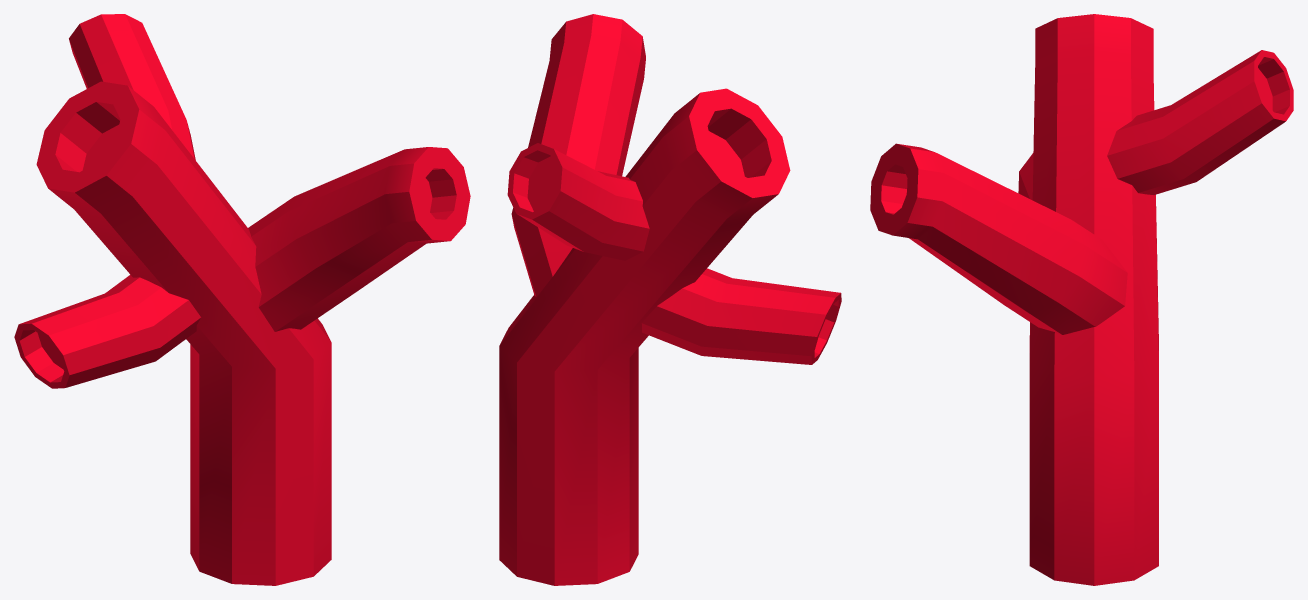
File: Coral red.fbx
The picture shows the model from 3 angles, left to right: view 1: azimuth 30°, elevation 25°; view 2: azimuth 150°, elevation 25°; view 3: azimuth 270°, elevation 25°; orthographic projection. The views are drawn at different scales.
Parts seen in each view (by area): view 1: Coral_red; view 2: Coral_red; view 3: Coral_red.
Part boxes in pixels (bbox=[...]): Coral_red: bbox=[14, 14, 470, 585]; Coral_red: bbox=[499, 14, 841, 585]; Coral_red: bbox=[870, 14, 1293, 585].
Size of the model in its own units: 33.86 by 44.8 by 35.72.
